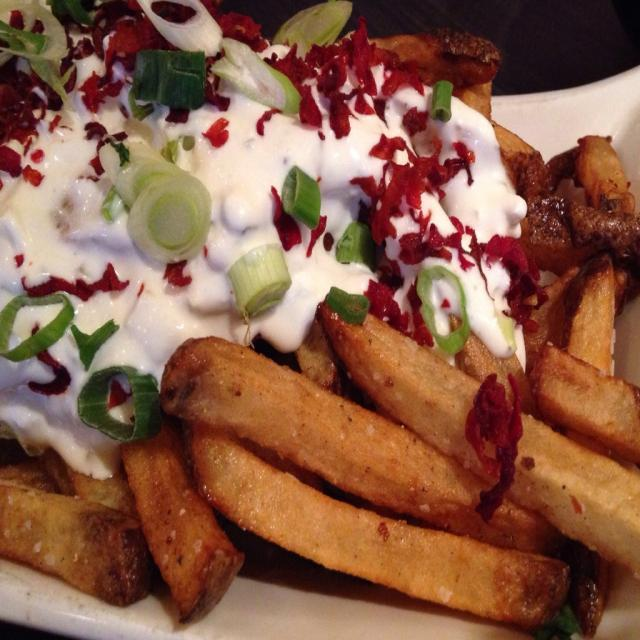French fries: (0, 19, 639, 639)
